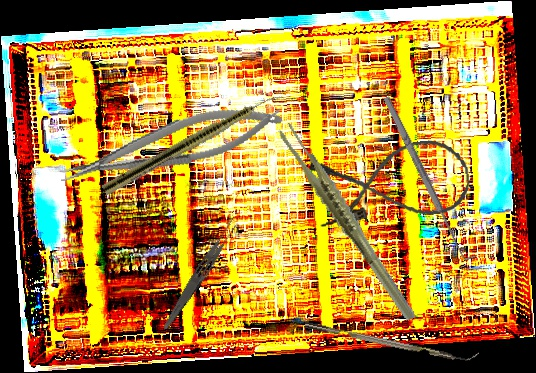Cannula: (308, 135, 474, 231)
Chopper: (304, 312, 479, 368)
Dressing Forceps: (159, 215, 242, 335)
Handpiece: (101, 86, 285, 199)
Hook Surgical: (380, 91, 477, 266)
Needle Holder: (53, 94, 288, 194)
Tissue Forceps: (276, 106, 418, 339)
